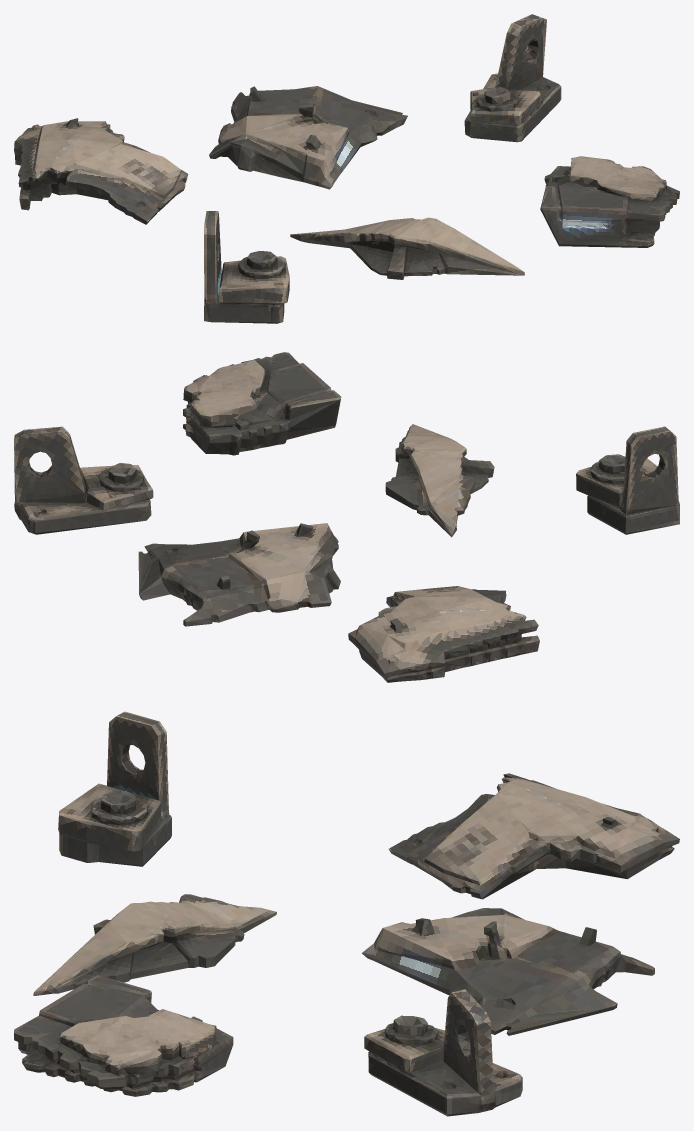
File: drone_fragments.glb
3 renders of one model, top to bottom at view 1: azimuth 30°, elevation 25°; view 2: azimuth 150°, elevation 25°; view 3: azimuth 270°, elevation 25°, orthographic. The views are drawn at different scales.
Visible parts, largest first — view 1: bent_metal_panel_b, bent_metal_panel_a, thicker_armour_chip, sharp_shard, small_bracket_b, small_bracket_a; view 2: bent_metal_panel_b, bent_metal_panel_a, thicker_armour_chip, small_bracket_b, small_bracket_a, sharp_shard; view 3: bent_metal_panel_b, bent_metal_panel_a, thicker_armour_chip, sharp_shard, small_bracket_b, small_bracket_a.
Part boxes in pixels (x1,y1,x2,y2): bent_metal_panel_b: (209,86,407,189); bent_metal_panel_a: (14,118,188,224); thicker_armour_chip: (540,156,679,247); sharp_shard: (290,217,524,279); small_bracket_b: (464,14,561,142); small_bracket_a: (204,211,289,323); bent_metal_panel_b: (138,523,340,626); bent_metal_panel_a: (348,586,539,682); thicker_armour_chip: (183,352,341,455); small_bracket_b: (14,426,153,534); small_bracket_a: (576,426,679,534); sharp_shard: (385,424,494,537); bent_metal_panel_b: (362,908,654,1035); bent_metal_panel_a: (388,773,679,899); thicker_armour_chip: (14,975,233,1096); sharp_shard: (33,894,276,995); small_bracket_b: (364,989,522,1116); small_bracket_a: (58,711,171,866).
Bounding box in the file's own units: 0.9994 × 0.1717 × 0.9025.
Materials: 1 (1 with a texture image).
